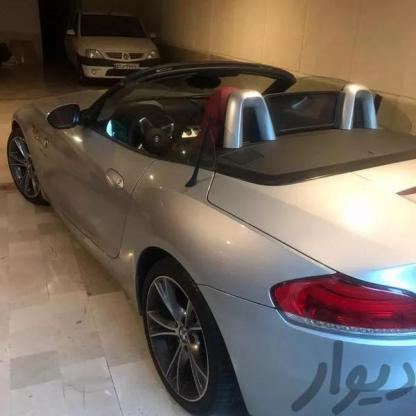Car: (0, 56, 416, 416), (57, 0, 166, 120)
